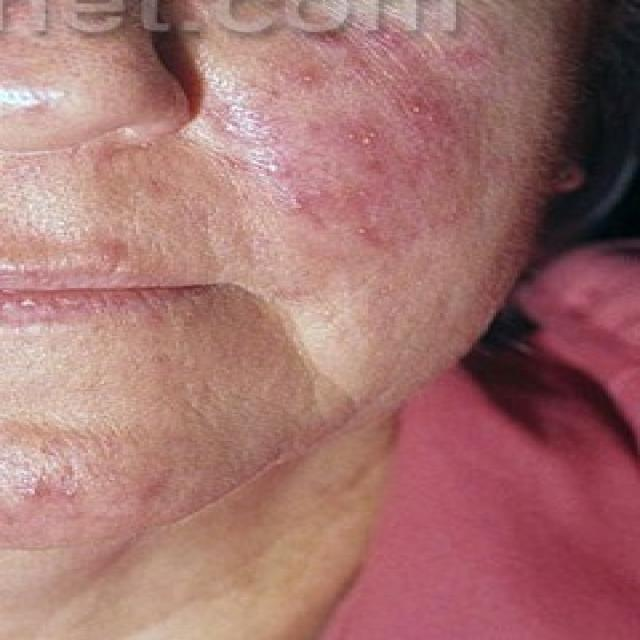Rosacea: (251, 61, 500, 238)
